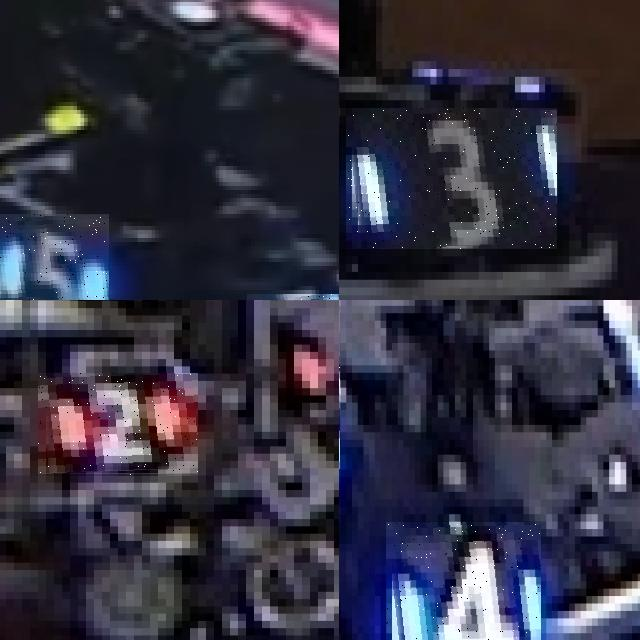B3: (346, 108, 557, 249)
B4: (386, 521, 540, 640)
B5: (0, 214, 109, 300)
R2: (38, 374, 198, 476)
